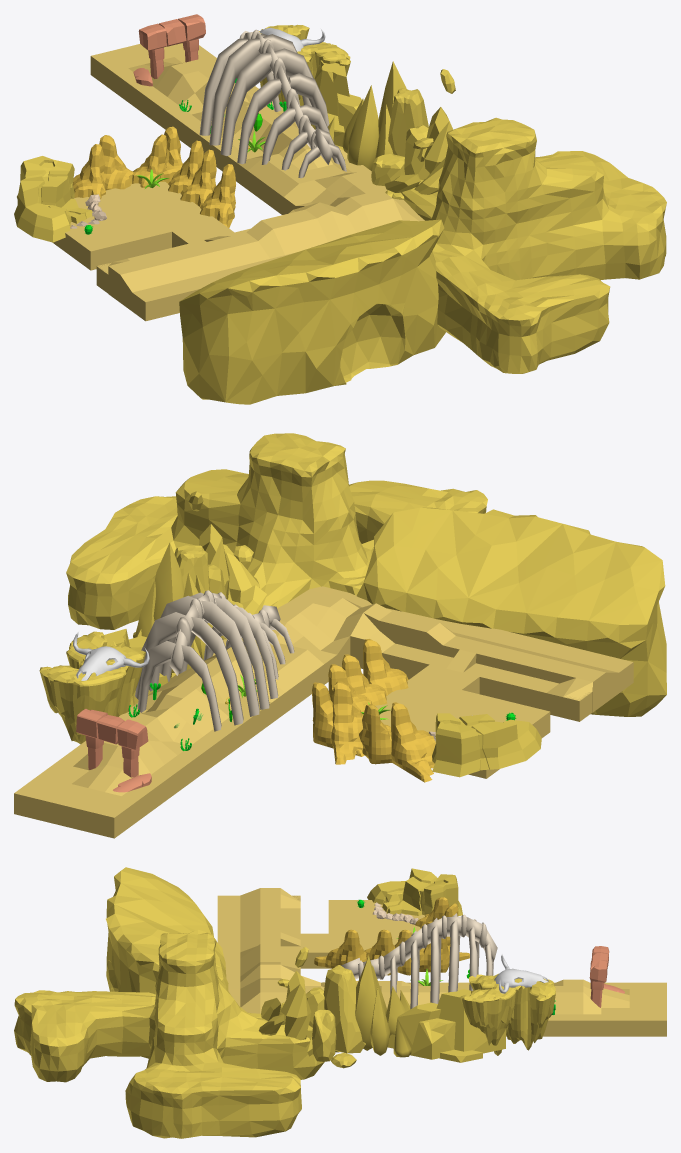
The model's file is biomtry5.fbx.
The picture shows the model from 3 angles, top to bottom: view 1: azimuth 30°, elevation 25°; view 2: azimuth 150°, elevation 25°; view 3: azimuth 270°, elevation 25°; orthographic projection. The views are drawn at different scales.
Visible parts, largest first — view 1: Winter Cliff 3.002, Plane.001, Winter Cave.009, Costillas.001, MagmaMountain_02.002, rock_07, rock_05_rock05, Cube.005, rock_06, rock_02_rock02, Mountain_desert_006.007, Mountain_desert_006.009 (+6 smaller); view 2: Plane.001, Winter Cave.009, Winter Cliff 3.002, Costillas.001, MagmaMountain_02.002, Hill_desert_005.001, Cube.005, rock_06, rock_05_rock05, Mountain_desert_006.009, Mountain_desert_006.010, Hill_desert_005.002 (+8 smaller); view 3: Winter Cliff 3.002, Plane.001, Winter Cave.009, Costillas.001, rock_02_rock02, rock_07, rock_05_rock05, MagmaMountain_02.002, Hill_desert_005.002, rock_06, Hill_desert_005.001, Cube.005 (+5 smaller).
Part boxes in pixels (x1,y1,x2,y2): Winter Cliff 3.002: [401, 117, 666, 373]; Plane.001: [53, 43, 424, 321]; Winter Cave.009: [179, 219, 445, 404]; Costillas.001: [199, 29, 346, 178]; MagmaMountain_02.002: [14, 156, 92, 242]; rock_07: [371, 88, 429, 199]; rock_05_rock05: [328, 61, 406, 171]; Cube.005: [133, 14, 205, 86]; rock_06: [385, 69, 455, 194]; rock_02_rock02: [303, 60, 361, 150]; Mountain_desert_006.007: [200, 164, 235, 228]; Mountain_desert_006.009: [73, 144, 105, 199]; Plane.001: [14, 586, 633, 838]; Winter Cave.009: [356, 507, 666, 716]; Winter Cliff 3.002: [66, 433, 487, 629]; Costillas.001: [135, 590, 294, 731]; MagmaMountain_02.002: [432, 713, 541, 777]; Hill_desert_005.001: [39, 657, 128, 744]; Cube.005: [76, 709, 151, 792]; rock_06: [188, 491, 266, 614]; rock_05_rock05: [135, 542, 212, 677]; Mountain_desert_006.009: [391, 702, 435, 782]; Mountain_desert_006.010: [331, 681, 363, 764]; Hill_desert_005.002: [66, 631, 145, 716]; Winter Cliff 3.002: [14, 929, 324, 1138]; Plane.001: [217, 888, 666, 1036]; Winter Cave.009: [106, 867, 228, 1058]; Costillas.001: [341, 913, 497, 1009]; rock_02_rock02: [388, 989, 505, 1062]; rock_07: [306, 965, 365, 1068]; rock_05_rock05: [335, 955, 411, 1057]; MagmaMountain_02.002: [367, 868, 462, 915]; Hill_desert_005.002: [460, 973, 516, 1055]; rock_06: [258, 947, 312, 1056]; Hill_desert_005.001: [506, 978, 555, 1050]; Cube.005: [589, 946, 624, 1007].
Size of the model in its own units: 38532 by 13839 by 50682.
